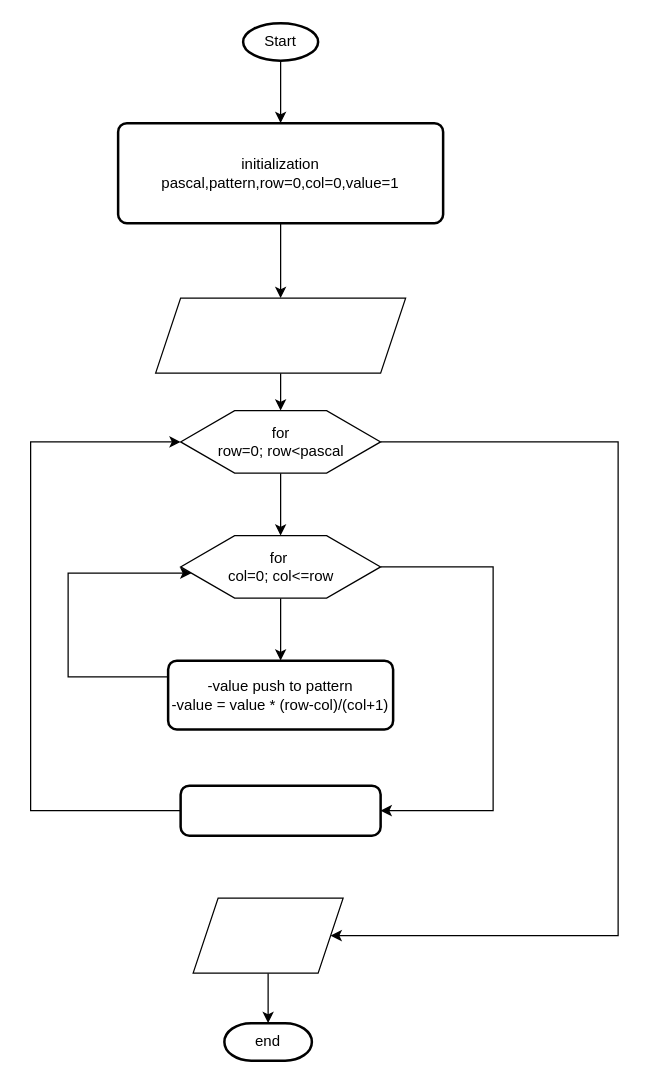
This 650x1083 diagram has some shape labels left out. The centre of each missing label's shape, as x and y in pixels:
"- <br> push to pattern -increment col" goes at point 280,810.
"input pascal" goes at point 280,335.
"output" goes at point 267,935.
